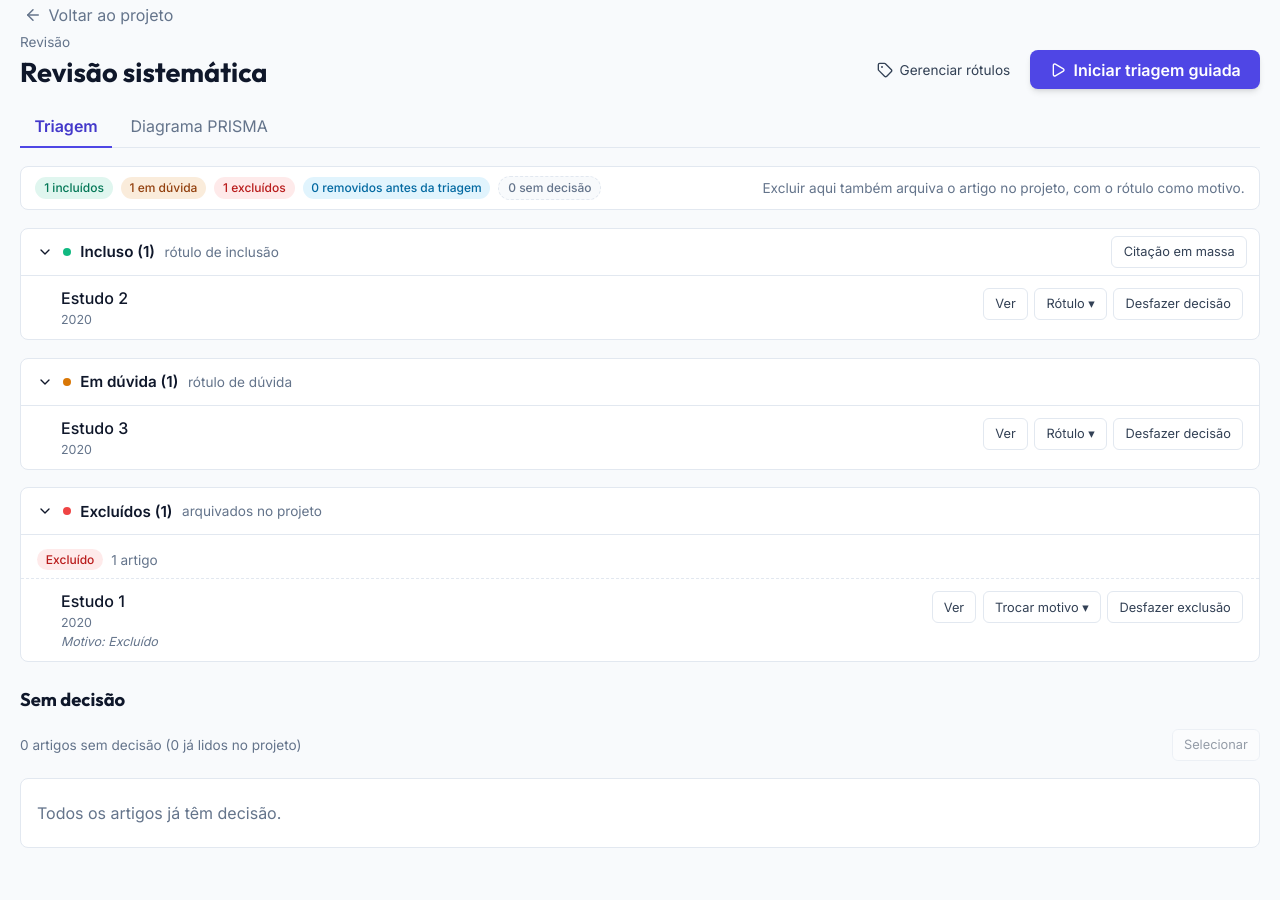
Test case: PrismaTab (#50) › opens from the screening tab and shows the diagram with its warnings counted
Click the link "Diagrama PRISMA": (199, 126) left=130, top=116, right=268, bottom=136
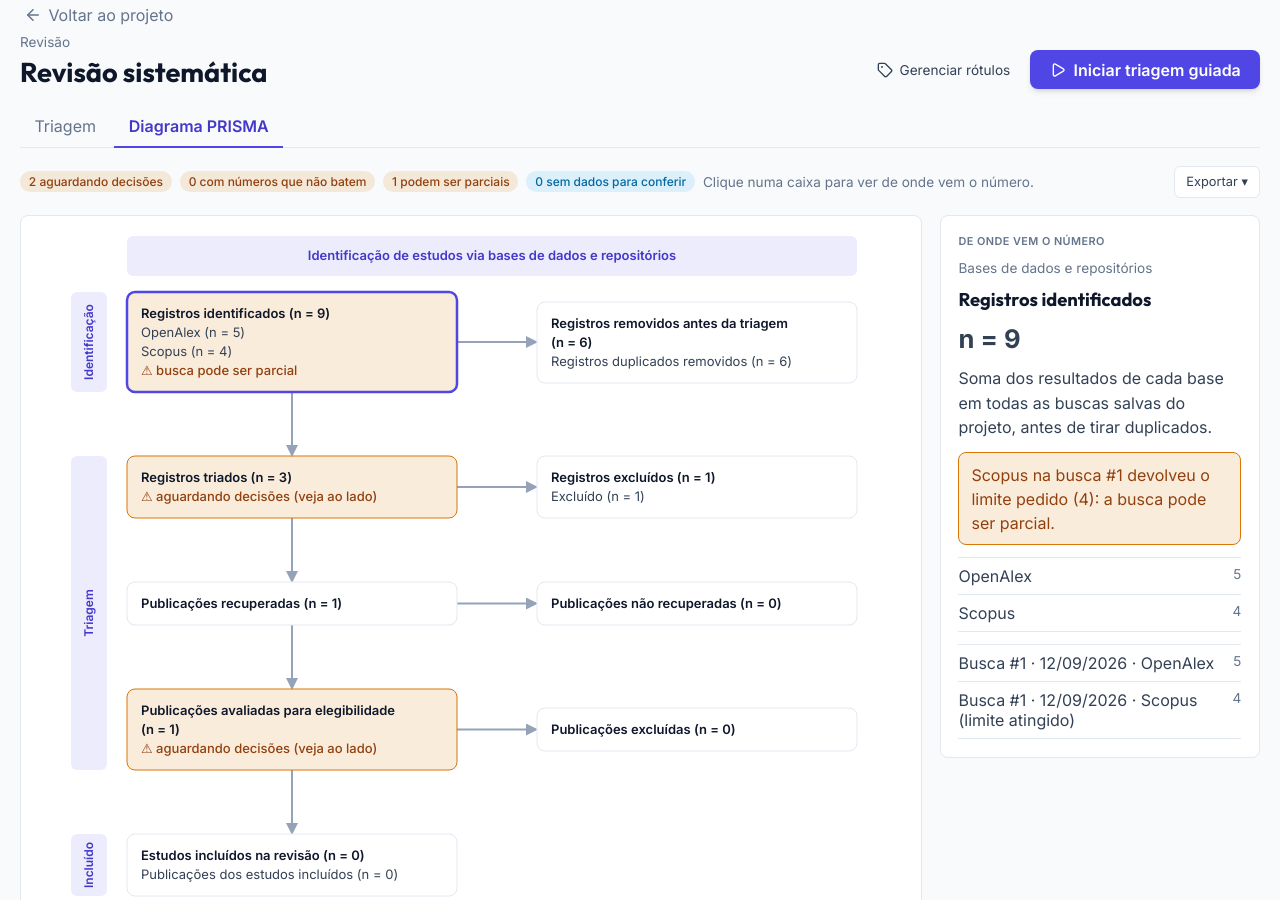
expect the text "2 aguardando decisões" is shown: met, box left=20, top=171, right=172, bottom=192
expect the text "1 podem ser parciais" is shown: met, box left=383, top=171, right=518, bottom=192
